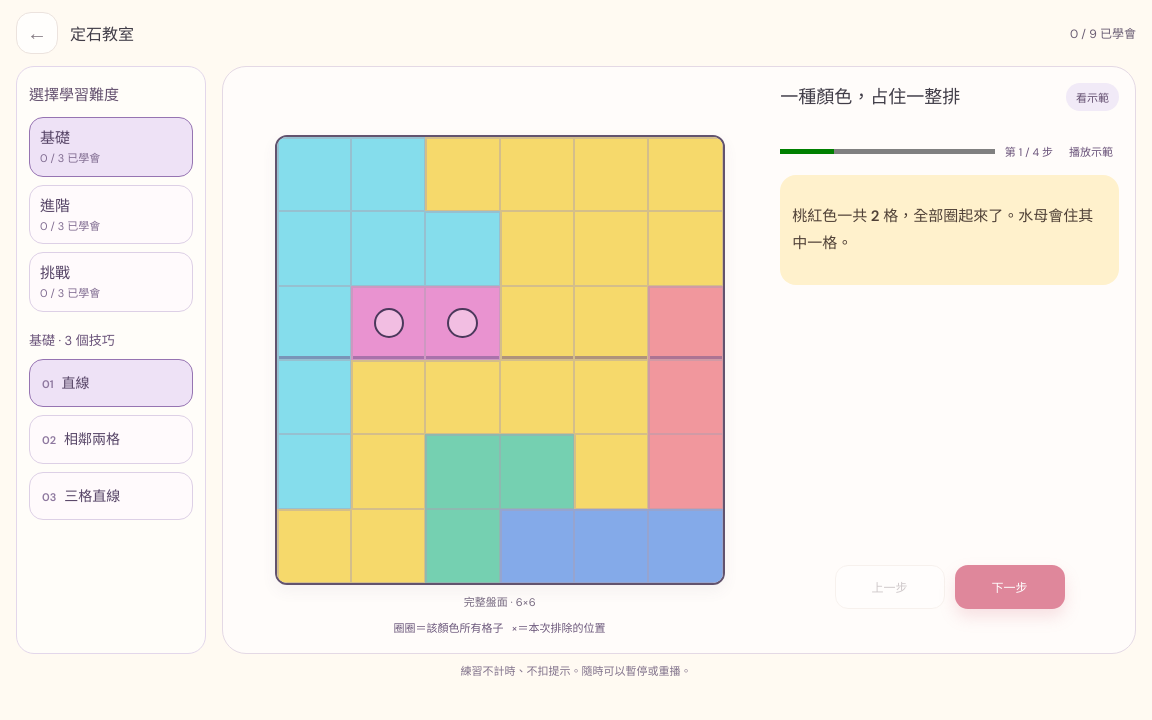
Scenario: pauses playback while choosing a course and closes the picker on selection or Escape
Earlier steps of the test are not shown.
Later steps or results of the test are not shown.
Click the button "進階 0 / 3 已學會" at [111, 214], box [29,185,193,244]
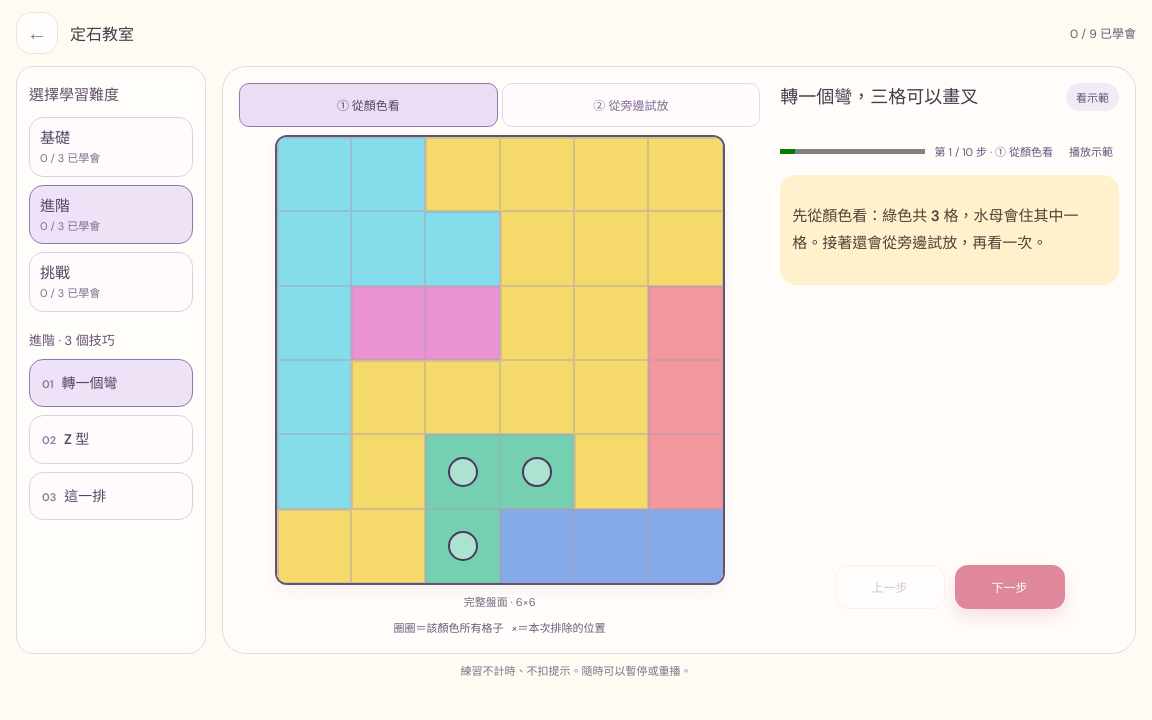
Expected: the button "播放示範" is shown, [1063,142,1119,160]
Click the button "基礎 0 / 3 已學會" at [111, 147], box [29,117,193,177]
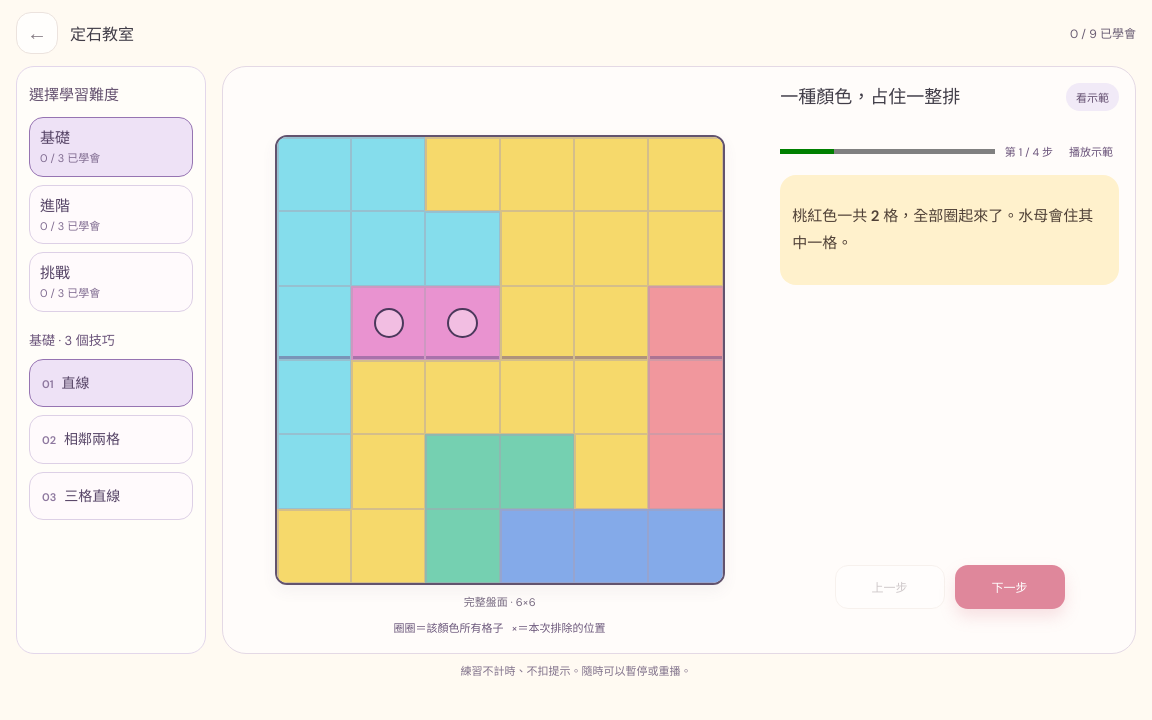
Click the button "02相鄰兩格" at [111, 439], box [29,415,193,464]
Wait 3500 ms
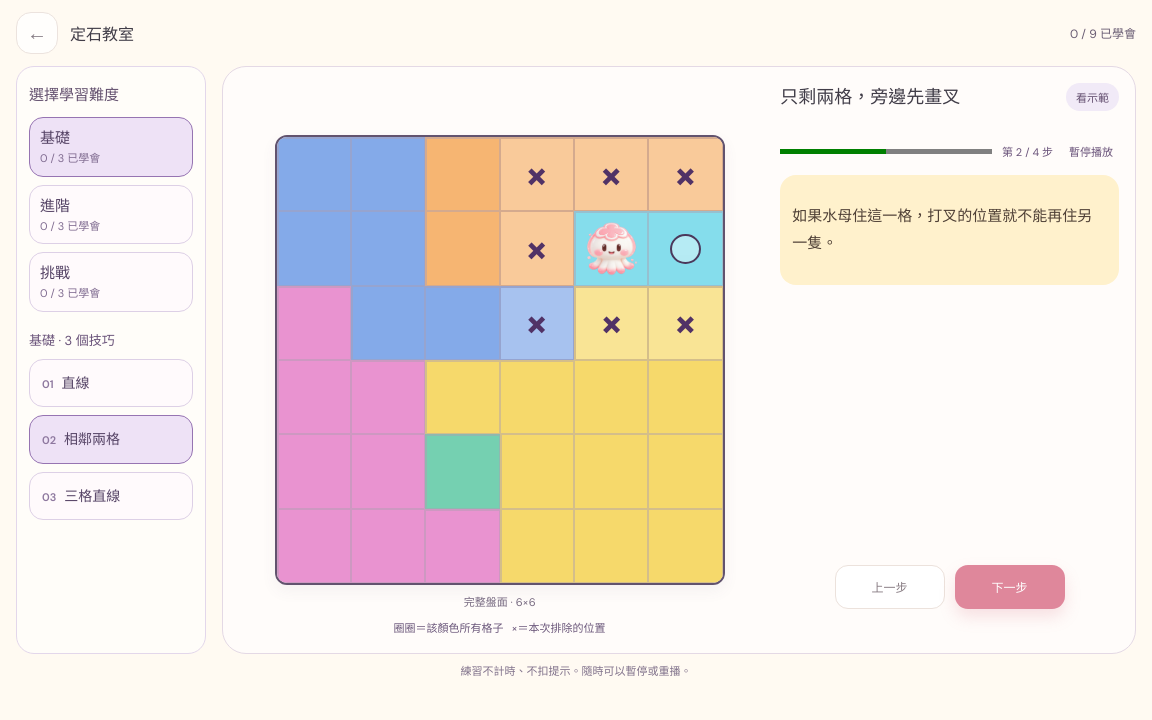
Expected: the text "第 2 / 4 步" is shown, [1002,143,1053,159]
